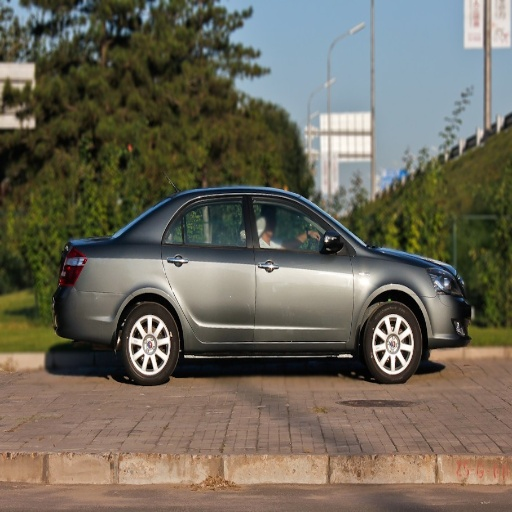back_right_door: (163, 193, 254, 342)
front_right_door: (250, 194, 354, 340)
